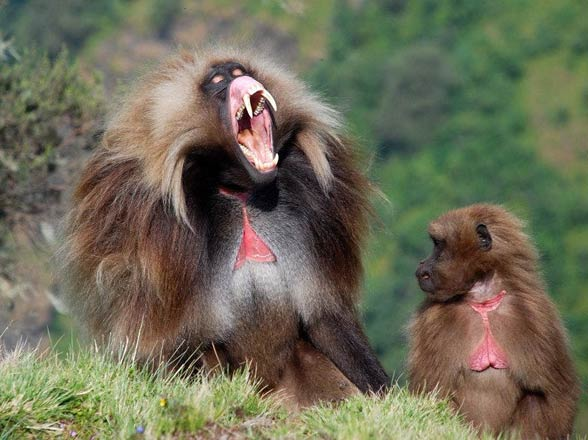Gelada: (95, 54, 375, 406), (418, 212, 578, 440)
